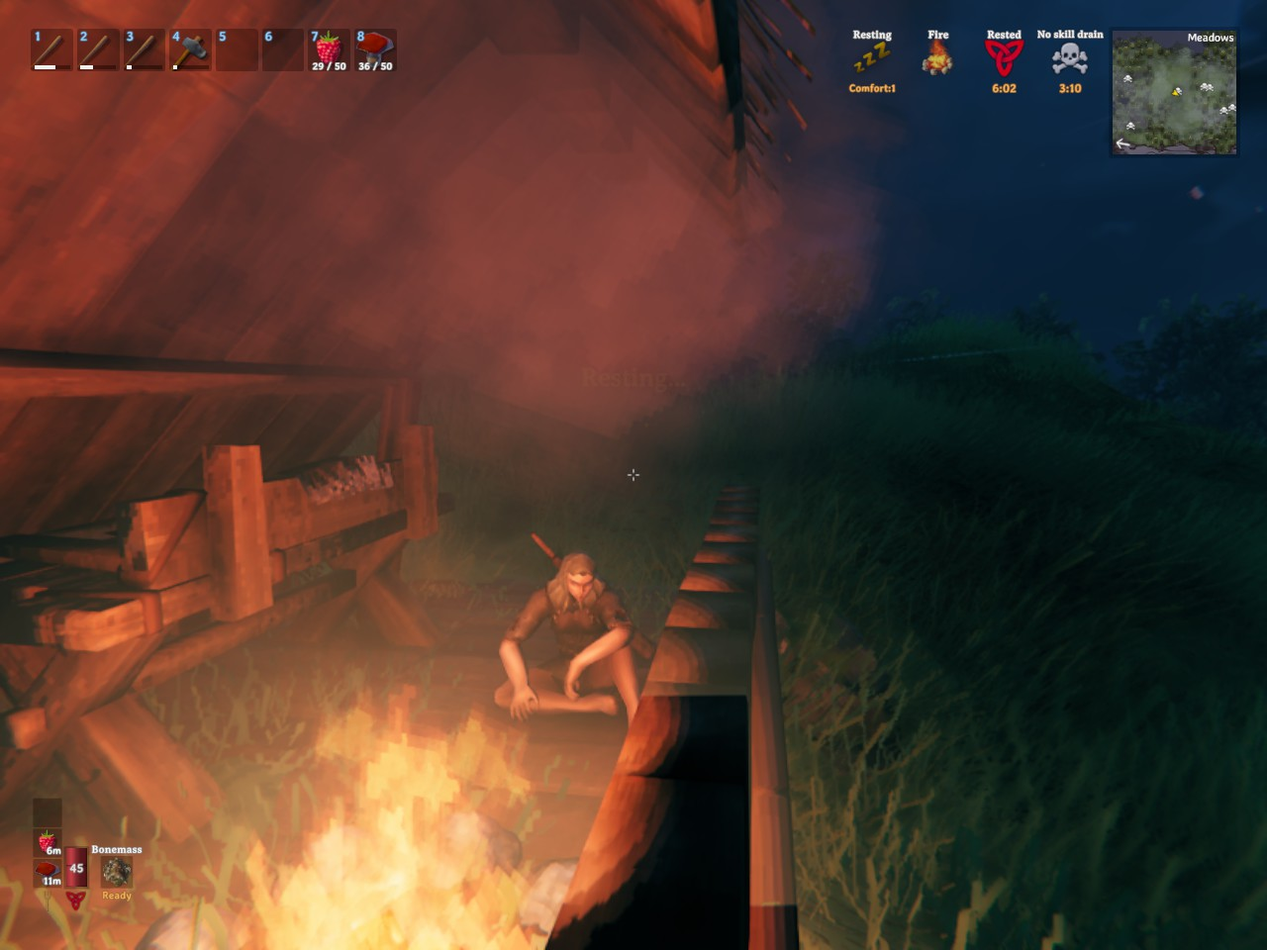Status Indicator: (838, 21, 1109, 110)
